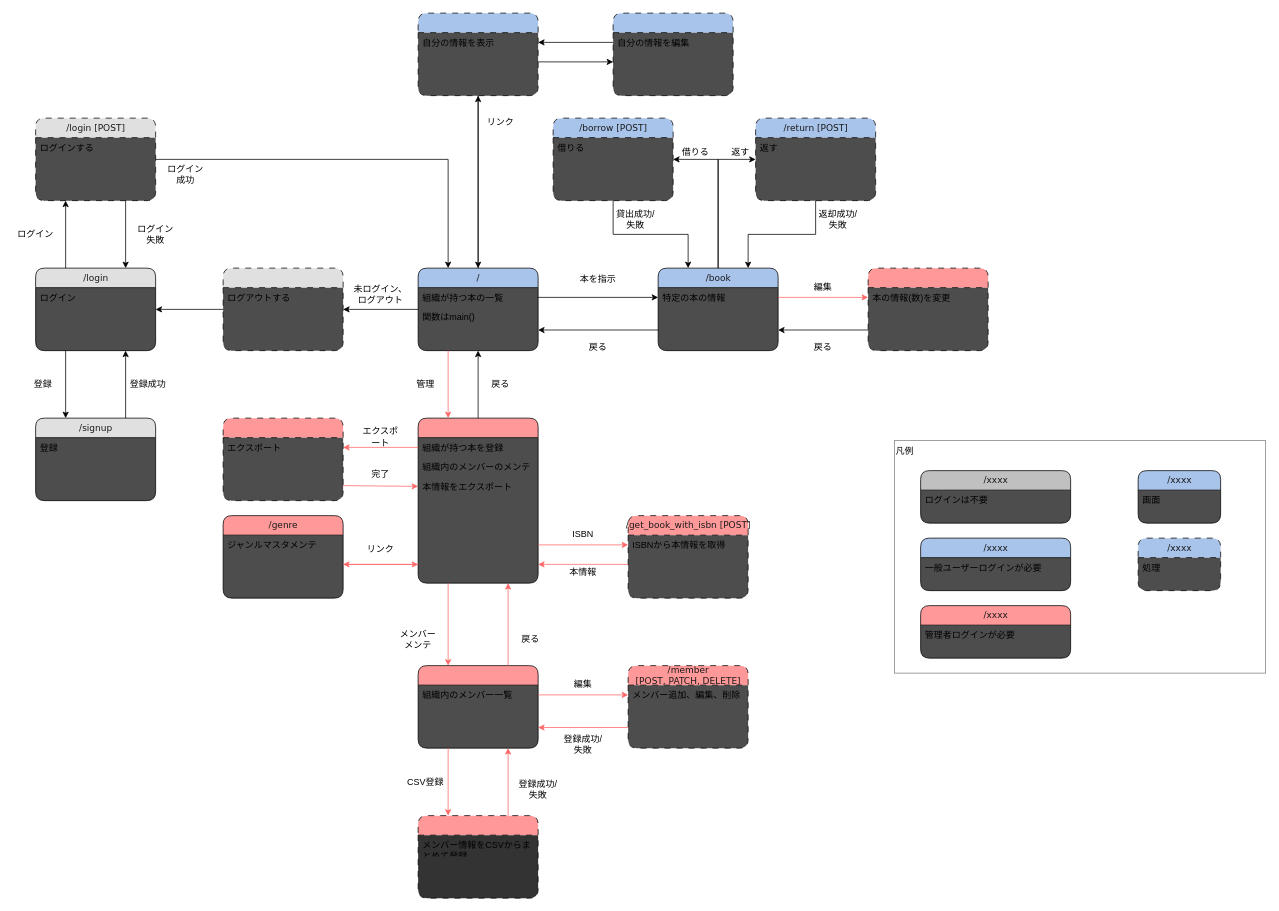
This 1279x911 diagram has some shape labels left out. The box of each missing label's shape, as (x1, y1, x2, y2) in pixels:
/book [POST]: (867, 267, 988, 351)
/export_books [POST]: (222, 417, 343, 501)
/logout: (222, 267, 343, 351)
/maintenance: (417, 417, 538, 583)
/member: (417, 665, 538, 748)
/mypage: (417, 12, 538, 96)
/mypage [POST]: (612, 12, 733, 96)
/regist_member_with_csv [POST]: (417, 815, 538, 898)
